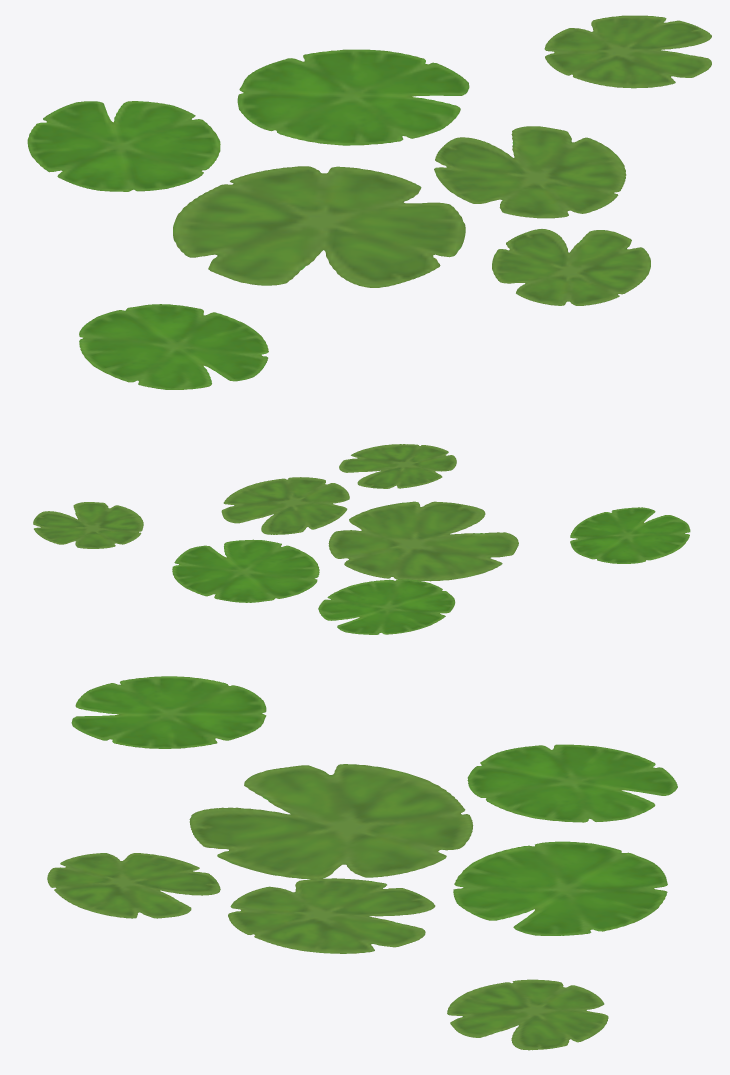
File: P_LilyPadCluster2.obj
3 views of the same model, one above another, from view 1: azimuth 30°, elevation 25°; view 2: azimuth 150°, elevation 25°; view 3: azimuth 270°, elevation 25° (orthographic). The views are drawn at different scales.
Bounding box in the file's own units: 4.25 × 0.0395 × 3.29.
